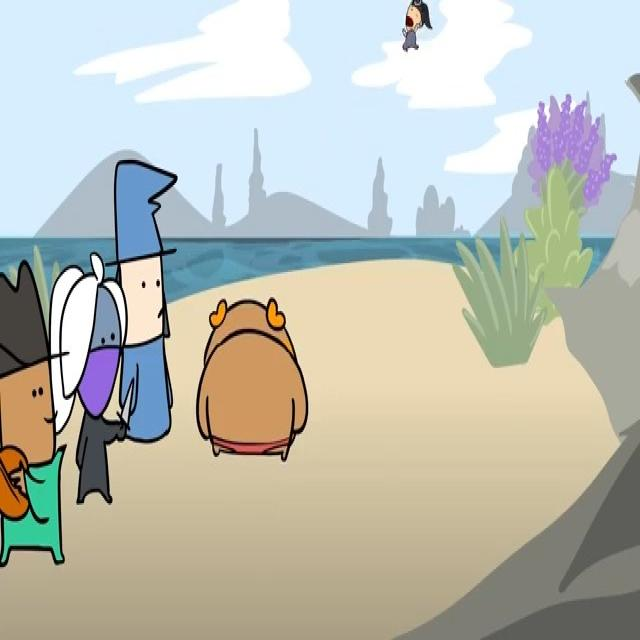Banjovi: (0, 258, 69, 568)
Haagen-Daz: (196, 297, 308, 462)
Josh: (104, 160, 179, 442)
miss Demeanor: (49, 251, 128, 505)
